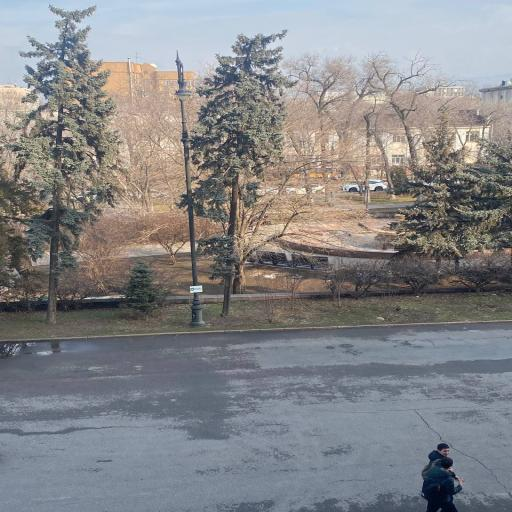crosswalk: (422, 457, 462, 512)
elevator: (176, 51, 206, 327)
trash_bin: (257, 251, 291, 267), (292, 254, 328, 269)
